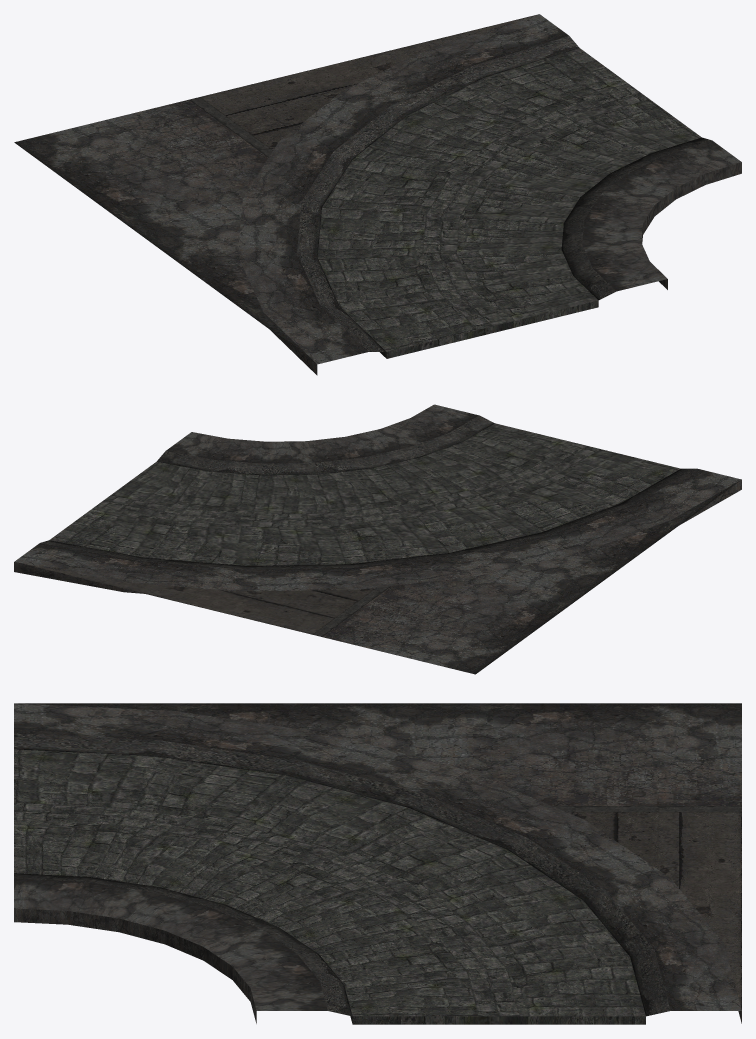
The model's file is alley_01_elbow_90_01.DAE.
3 views of the same model, one above another, from view 1: azimuth 30°, elevation 25°; view 2: azimuth 150°, elevation 25°; view 3: azimuth 270°, elevation 25° (orthographic). The views are drawn at different scales.
Visible parts, largest first — view 1: Box038, Box065, Box036; view 2: Box038, Box065, Box036; view 3: Box038, Box065, Box036.
Boxes of the visible parts, x1=… form: Box038: x1=14, y1=14, x2=741, y2=375; Box065: x1=317, y1=48, x2=701, y2=358; Box036: x1=201, y1=15, x2=535, y2=150; Box038: x1=14, y1=404, x2=741, y2=674; Box065: x1=49, y1=423, x2=680, y2=565; Box036: x1=16, y1=562, x2=375, y2=634; Box038: x1=14, y1=703, x2=741, y2=1023; Box065: x1=14, y1=749, x2=645, y2=1024; Box036: x1=567, y1=812, x2=741, y2=1010.
Bounding box in the file's own units: 12 × 0.25 × 12.
